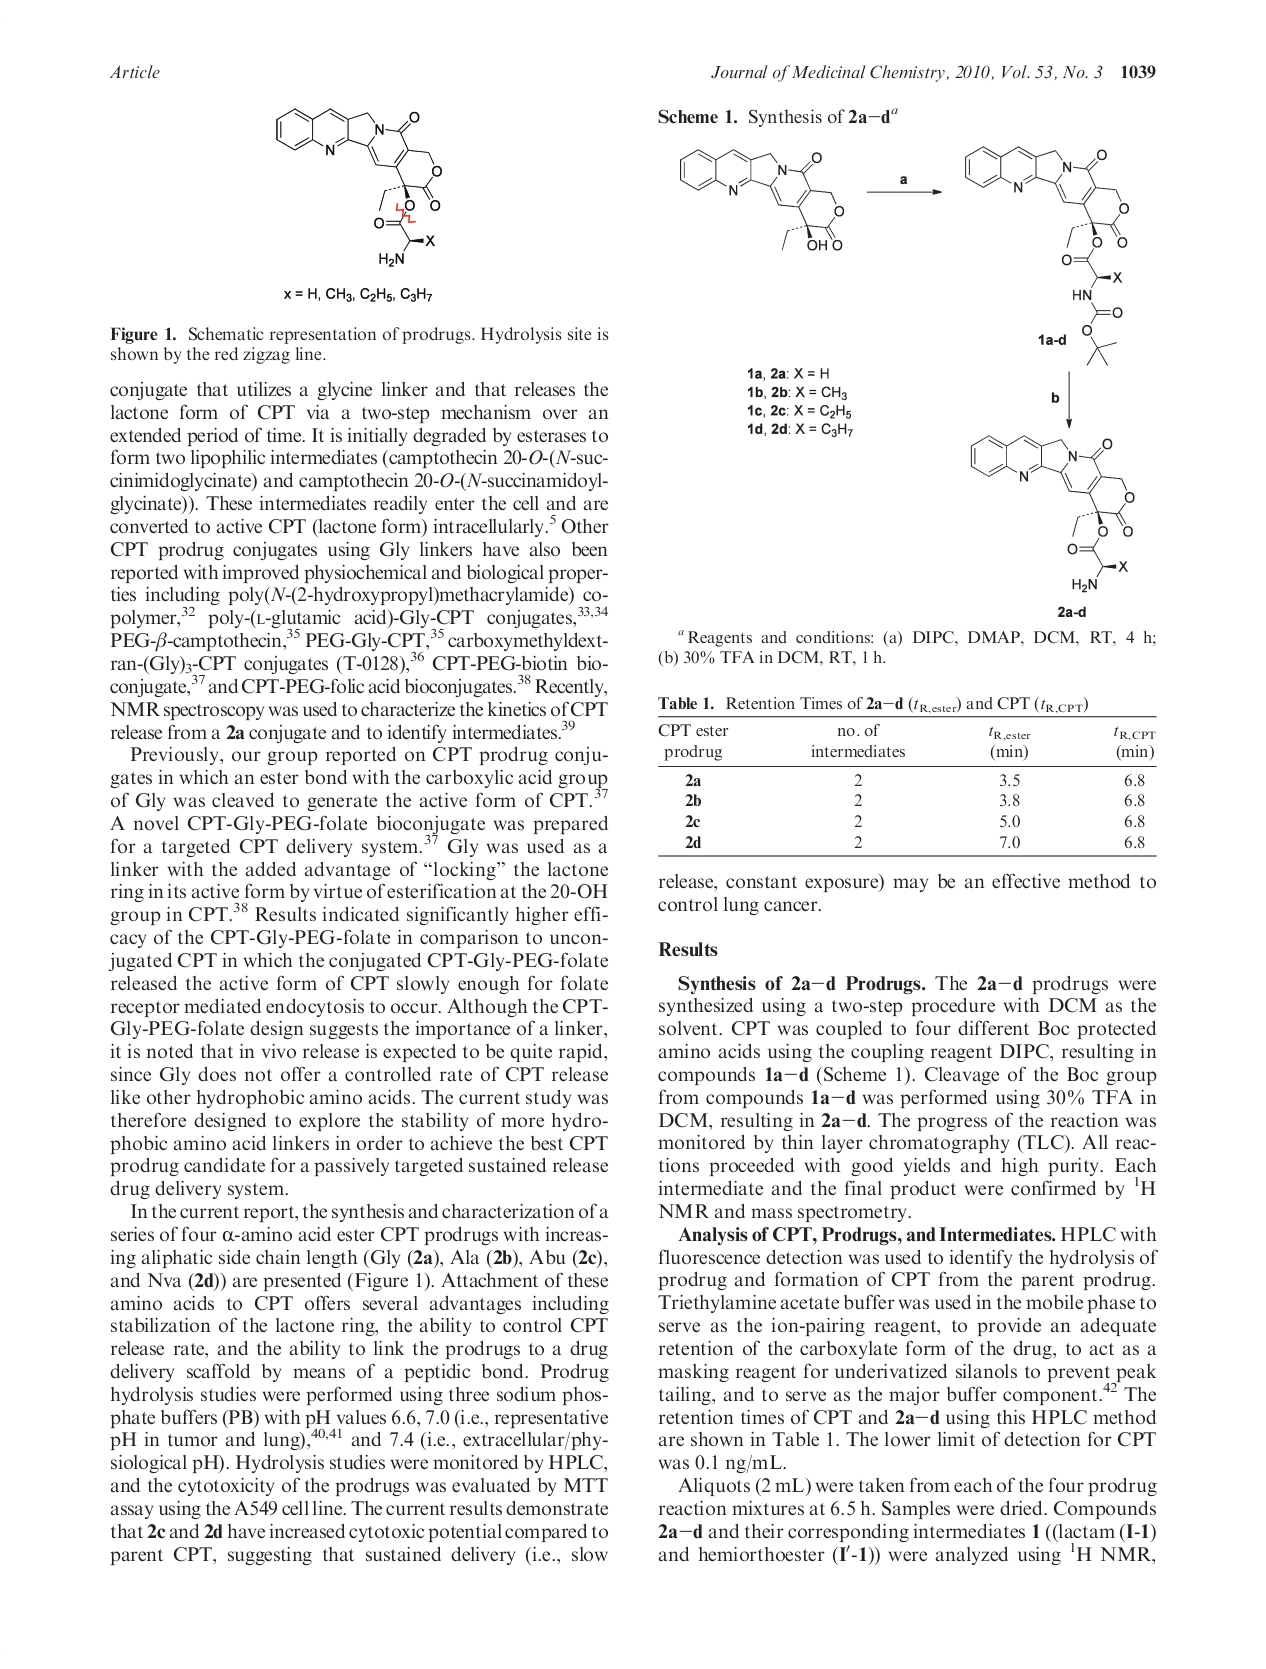exist_molecular: (963, 144, 1130, 368), (273, 105, 442, 270), (968, 432, 1137, 592), (678, 148, 844, 253)
